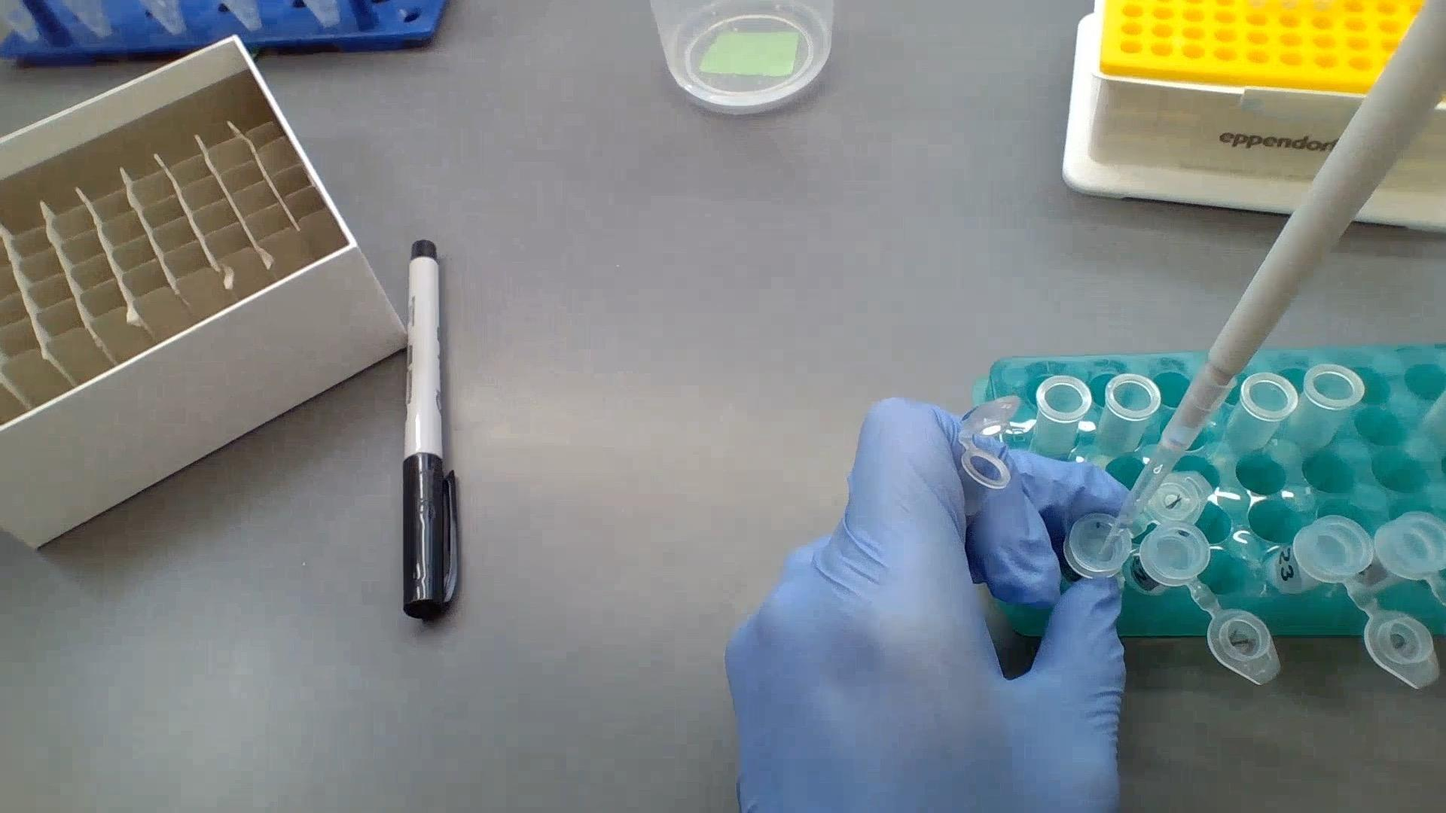pipette: (1109, 0, 1445, 537)
